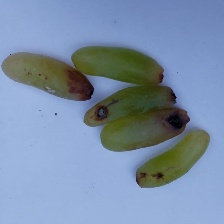grapes: (8, 17, 173, 169)
